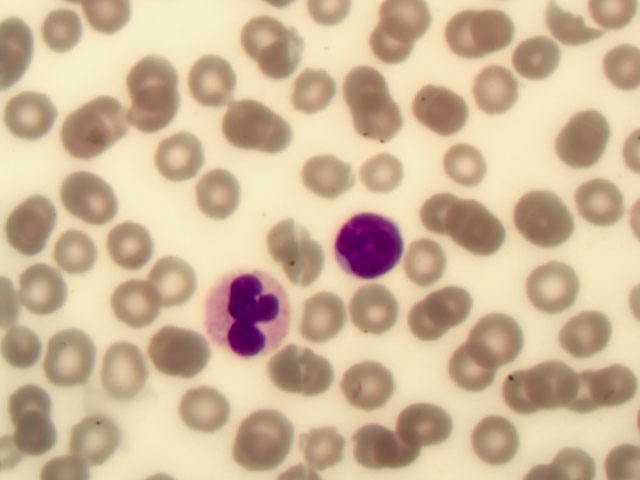RBC: (157, 327, 205, 376), (105, 283, 153, 332), (149, 258, 197, 307), (111, 222, 159, 271), (196, 170, 244, 219), (198, 56, 246, 105), (220, 95, 268, 144), (257, 109, 305, 158), (244, 12, 292, 61), (287, 64, 335, 113), (341, 59, 389, 108), (358, 100, 406, 149), (412, 86, 460, 135), (476, 64, 524, 113), (476, 6, 524, 55), (445, 8, 493, 57), (509, 24, 557, 73), (377, 12, 425, 61), (592, 46, 640, 95), (558, 110, 606, 159), (442, 139, 490, 188), (365, 150, 413, 199), (306, 152, 354, 201), (269, 217, 317, 266), (419, 191, 467, 240), (407, 242, 455, 291), (450, 196, 498, 245), (512, 189, 560, 238), (573, 176, 621, 225), (534, 252, 582, 301), (567, 308, 615, 357), (467, 314, 515, 363), (450, 350, 498, 399), (440, 278, 488, 327), (407, 295, 455, 344), (347, 284, 395, 333), (313, 292, 361, 341), (292, 343, 340, 392), (244, 414, 292, 463), (182, 387, 230, 436), (70, 416, 118, 465), (4, 410, 52, 459), (5, 386, 53, 435), (352, 420, 400, 469), (409, 401, 457, 450), (338, 360, 386, 409), (472, 419, 520, 468), (500, 368, 548, 417), (531, 351, 579, 400), (577, 369, 625, 418), (101, 344, 147, 393), (38, 6, 84, 51), (7, 87, 53, 132), (54, 113, 100, 158), (79, 95, 125, 140), (130, 84, 176, 129), (133, 54, 179, 99), (156, 136, 202, 181), (69, 177, 115, 222), (12, 197, 58, 242), (47, 229, 93, 274), (25, 260, 71, 305), (48, 330, 94, 375), (1, 324, 46, 369), (601, 436, 640, 480)
WBC: (201, 268, 292, 354), (334, 211, 409, 278)
